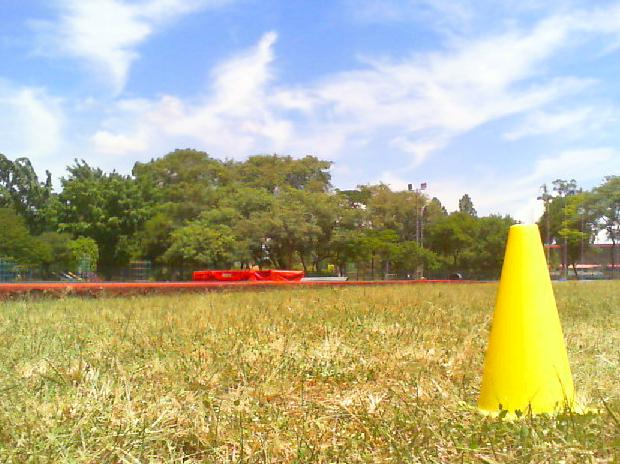0 cone: (469, 224, 604, 422)
